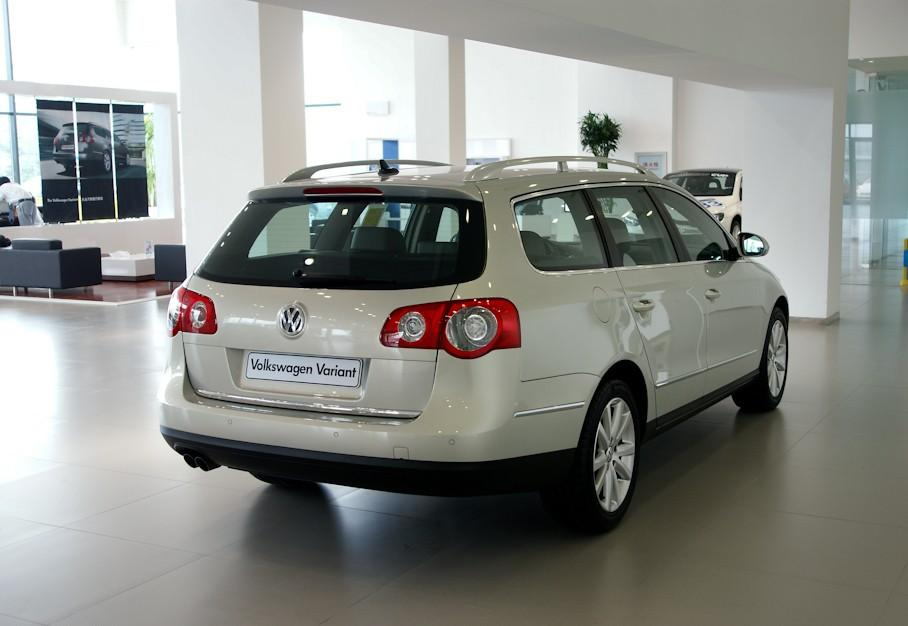Wagon: (157, 166, 792, 538)
